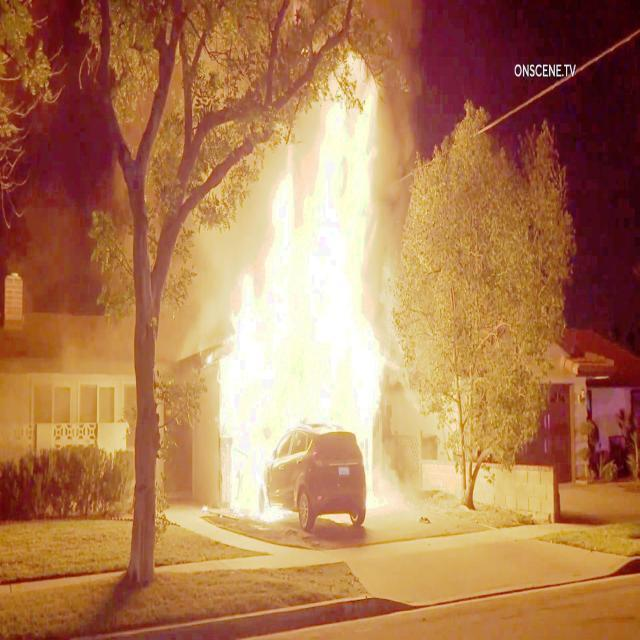Fire: (219, 78, 407, 530)
